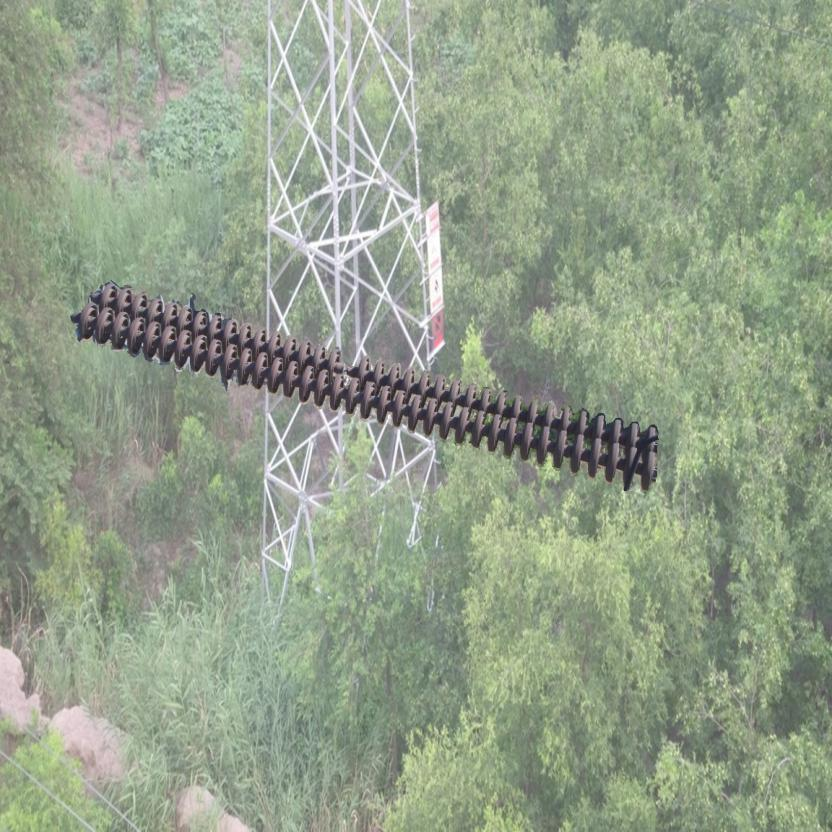defect: (323, 345, 373, 378)
